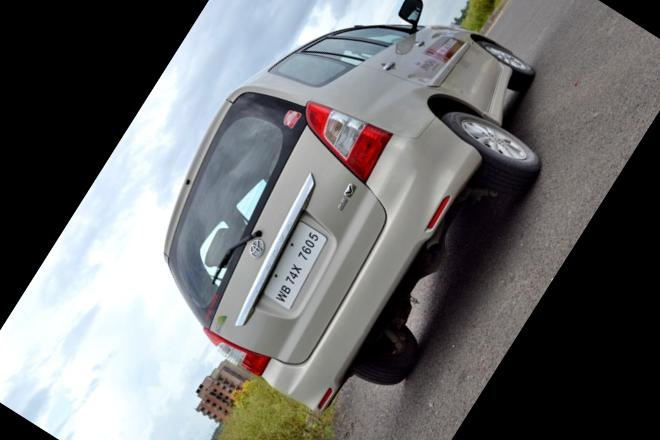plate: (248, 204, 352, 320)
